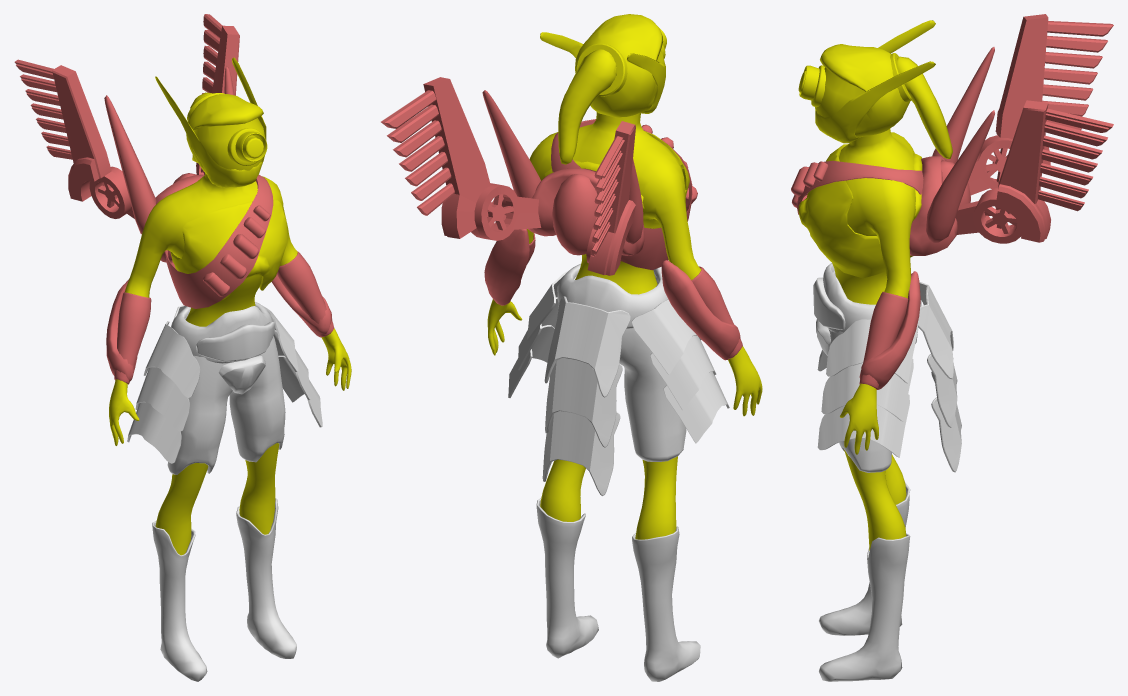
File: icarus_low.fbx
3 renders of one model, left to right at view 1: azimuth 30°, elevation 25°; view 2: azimuth 150°, elevation 25°; view 3: azimuth 270°, elevation 25°, orthographic. The views are drawn at different scales.
Visible parts, largest first — view 1: cuerpo_low, alas_low, pies_low, pantalones_low, brazaletedeco1_low, pechera_low, bandana_low, cabeza_low, pollera1_low, pollera3_low, antenas_low, pollera2_low (+6 smaller); view 2: alas_low, cuerpo_low, pies_low, brazaletedeco1_low, pantalones_low, polleratrasera1_low, cabeza_low, polleratrasera2_low, polleratrasera3_low, pollera1_low, pelo_low, cinturon_low (+9 smaller); view 3: alas_low, cuerpo_low, pies_low, pechera_low, cabeza_low, antenas_low, brazaletedeco1_low, cabezadeco_low, pollera2_low, pollera3_low, jetpack_low, pollera1_low (+9 smaller).
Part boxes in pixels (x1=…): cuerpo_low: x1=109, y1=173, x2=351, y2=555; alas_low: x1=14, y1=14, x2=239, y2=218; pies_low: x1=152, y1=498, x2=296, y2=681; pantalones_low: x1=167, y1=315, x2=285, y2=474; brazaletedeco1_low: x1=106, y1=251, x2=334, y2=384; pechera_low: x1=170, y1=200, x2=287, y2=299; bandana_low: x1=165, y1=175, x2=273, y2=308; cabeza_low: x1=186, y1=94, x2=265, y2=174; pollera1_low: x1=143, y1=305, x2=298, y2=398; pollera3_low: x1=127, y1=355, x2=322, y2=463; antenas_low: x1=104, y1=66, x2=234, y2=234; pollera2_low: x1=135, y1=329, x2=310, y2=431; alas_low: x1=381, y1=77, x2=635, y2=275; cuerpo_low: x1=487, y1=112, x2=762, y2=539; pies_low: x1=536, y1=498, x2=700, y2=681; brazaletedeco1_low: x1=484, y1=229, x2=742, y2=360; pantalones_low: x1=558, y1=271, x2=686, y2=461; polleratrasera1_low: x1=544, y1=296, x2=630, y2=397; cabeza_low: x1=575, y1=14, x2=665, y2=117; polleratrasera2_low: x1=545, y1=358, x2=622, y2=447; polleratrasera3_low: x1=542, y1=411, x2=620, y2=495; pollera1_low: x1=527, y1=271, x2=701, y2=374; pelo_low: x1=558, y1=49, x2=616, y2=164; cinturon_low: x1=557, y1=264, x2=667, y2=328; alas_low: x1=955, y1=14, x2=1113, y2=243; cuerpo_low: x1=832, y1=128, x2=915, y2=550; pies_low: x1=819, y1=482, x2=910, y2=681; pechera_low: x1=798, y1=144, x2=922, y2=278; cabeza_low: x1=815, y1=44, x2=910, y2=137; antenas_low: x1=926, y1=47, x2=994, y2=242; brazaletedeco1_low: x1=859, y1=271, x2=920, y2=389; cabezadeco_low: x1=815, y1=20, x2=935, y2=143; pollera2_low: x1=821, y1=358, x2=913, y2=421; pollera3_low: x1=817, y1=350, x2=909, y2=457; jetpack_low: x1=909, y1=156, x2=957, y2=255; pollera1_low: x1=826, y1=319, x2=918, y2=383.
Bounding box in the file's own units: 2.74 × 6.27 × 2.98.
